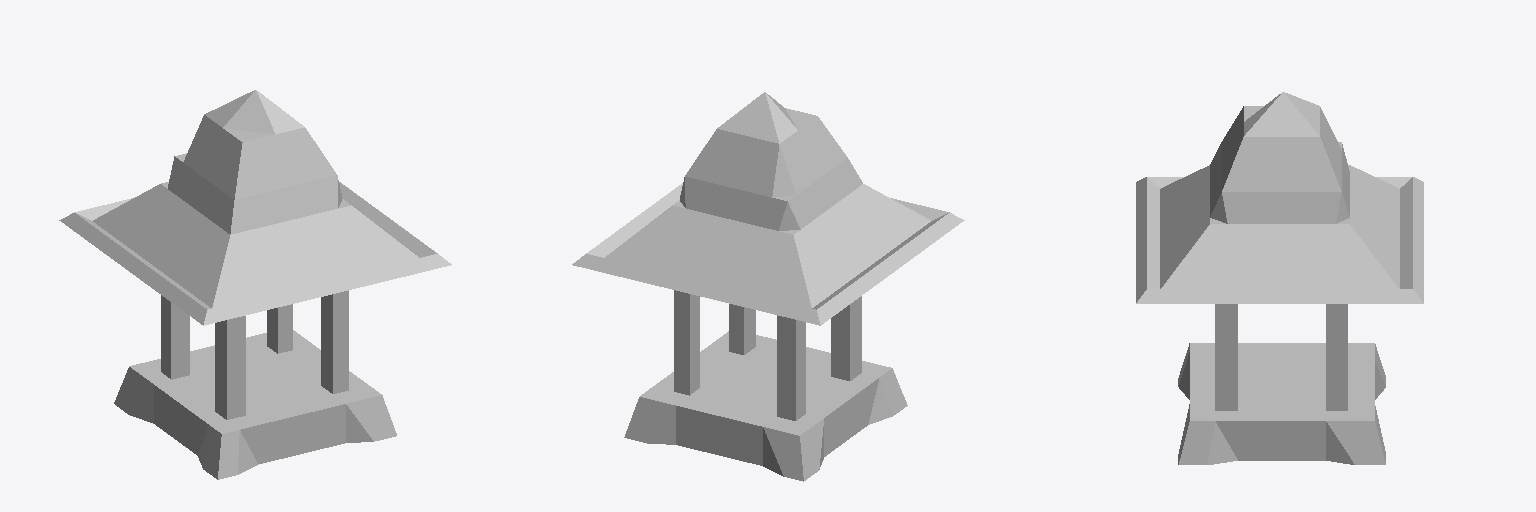
The model's file is UV_Decor.obj.
3 renders of one model, left to right at view 1: azimuth 30°, elevation 25°; view 2: azimuth 150°, elevation 25°; view 3: azimuth 270°, elevation 25°, orthographic.
Visible parts, largest first — view 1: initialShadingGroup polySurface2 pCube3, initialShadingGroup pCube3 polySurface3; view 2: initialShadingGroup polySurface2 pCube3, initialShadingGroup pCube3 polySurface3; view 3: initialShadingGroup polySurface2 pCube3, initialShadingGroup pCube3 polySurface3.
Part boxes in pixels (bbox=[...]): initialShadingGroup polySurface2 pCube3: bbox=[59, 90, 451, 325]; initialShadingGroup pCube3 polySurface3: bbox=[114, 290, 396, 479]; initialShadingGroup polySurface2 pCube3: bbox=[572, 92, 964, 325]; initialShadingGroup pCube3 polySurface3: bbox=[624, 290, 907, 481]; initialShadingGroup polySurface2 pCube3: bbox=[1136, 92, 1423, 303]; initialShadingGroup pCube3 polySurface3: bbox=[1178, 304, 1385, 464].
Size of the model in its own units: 4.79 by 6.06 by 4.79.